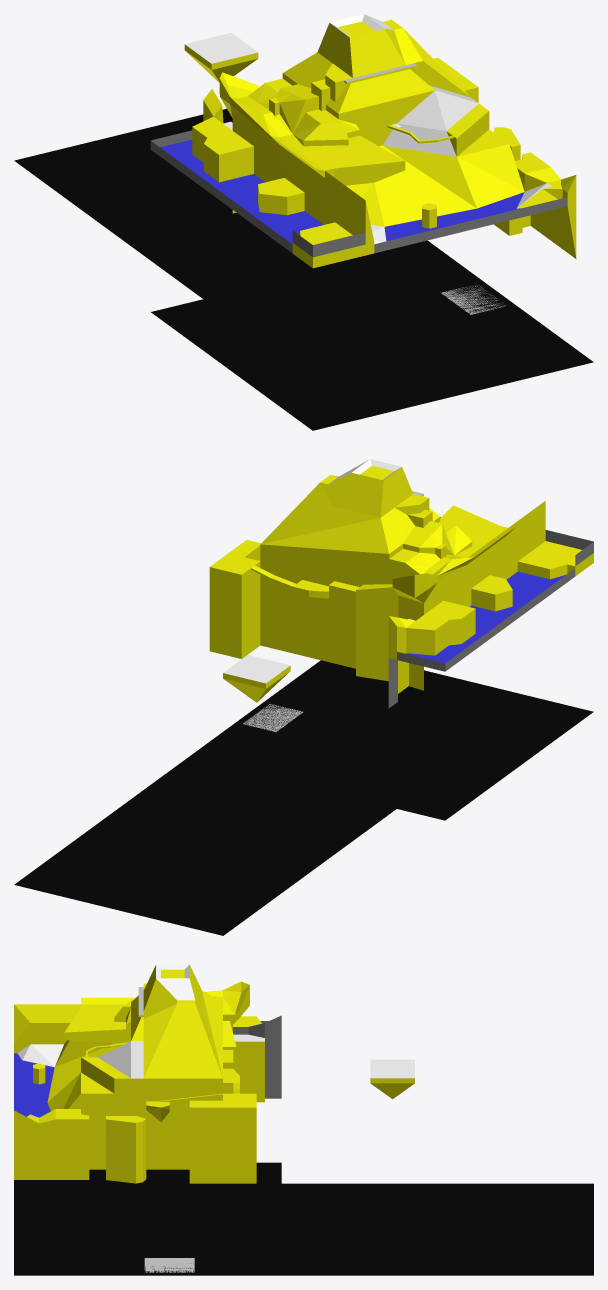
File: thi_segment7.0x0BD60.collision.obj
3 renders of one model, top to bottom at view 1: azimuth 30°, elevation 25°; view 2: azimuth 150°, elevation 25°; view 3: azimuth 270°, elevation 25°, orthographic. The views are drawn at different scales.
Visible parts, largest first — view 1: thi_segment7_0BD60_deathfloor, thi_segment7_0BD60_normal, thi_segment7_0BD60_icy, thi_segment7_0BD60_wall, thi_segment7_0BD60_snowy, thi_segment7_0BD60_snowy2, thi_segment7_0BD60_38; view 2: thi_segment7_0BD60_deathfloor, thi_segment7_0BD60_normal, thi_segment7_0BD60_wall, thi_segment7_0BD60_icy, thi_segment7_0BD60_snowy2, thi_segment7_0BD60_38; view 3: thi_segment7_0BD60_deathfloor, thi_segment7_0BD60_normal, thi_segment7_0BD60_snowy2, thi_segment7_0BD60_icy, thi_segment7_0BD60_wall, thi_segment7_0BD60_snowy, thi_segment7_0BD60_38.
Part boxes in pixels (bbox=[...]): thi_segment7_0BD60_deathfloor: bbox=[14, 108, 593, 430]; thi_segment7_0BD60_normal: bbox=[184, 19, 576, 268]; thi_segment7_0BD60_icy: bbox=[160, 139, 524, 243]; thi_segment7_0BD60_wall: bbox=[150, 130, 567, 257]; thi_segment7_0BD60_snowy: bbox=[383, 85, 478, 156]; thi_segment7_0BD60_snowy2: bbox=[185, 14, 551, 244]; thi_segment7_0BD60_38: bbox=[441, 285, 505, 314]; thi_segment7_0BD60_deathfloor: bbox=[14, 660, 593, 935]; thi_segment7_0BD60_normal: bbox=[209, 465, 593, 702]; thi_segment7_0BD60_wall: bbox=[388, 517, 593, 708]; thi_segment7_0BD60_icy: bbox=[406, 571, 565, 663]; thi_segment7_0BD60_snowy2: bbox=[223, 459, 415, 683]; thi_segment7_0BD60_38: bbox=[243, 704, 303, 731]; thi_segment7_0BD60_deathfloor: bbox=[14, 1162, 593, 1275]; thi_segment7_0BD60_normal: bbox=[14, 965, 414, 1183]; thi_segment7_0BD60_snowy2: bbox=[17, 964, 414, 1117]; thi_segment7_0BD60_icy: bbox=[14, 1053, 54, 1117]; thi_segment7_0BD60_wall: bbox=[233, 1015, 281, 1098]; thi_segment7_0BD60_snowy: bbox=[98, 1041, 143, 1078]; thi_segment7_0BD60_38: bbox=[144, 1258, 194, 1272].
Size of the model in its own units: 4.8 by 4.9 by 10.4.
